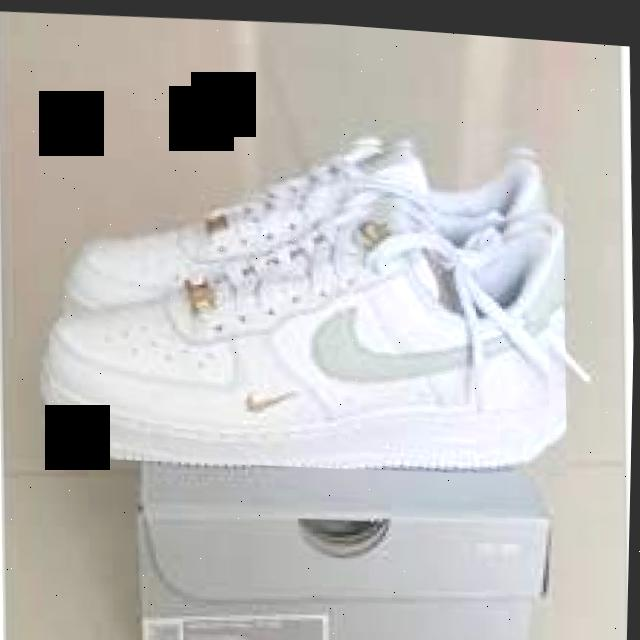shoe: (35, 105, 574, 485), (43, 157, 561, 485)
